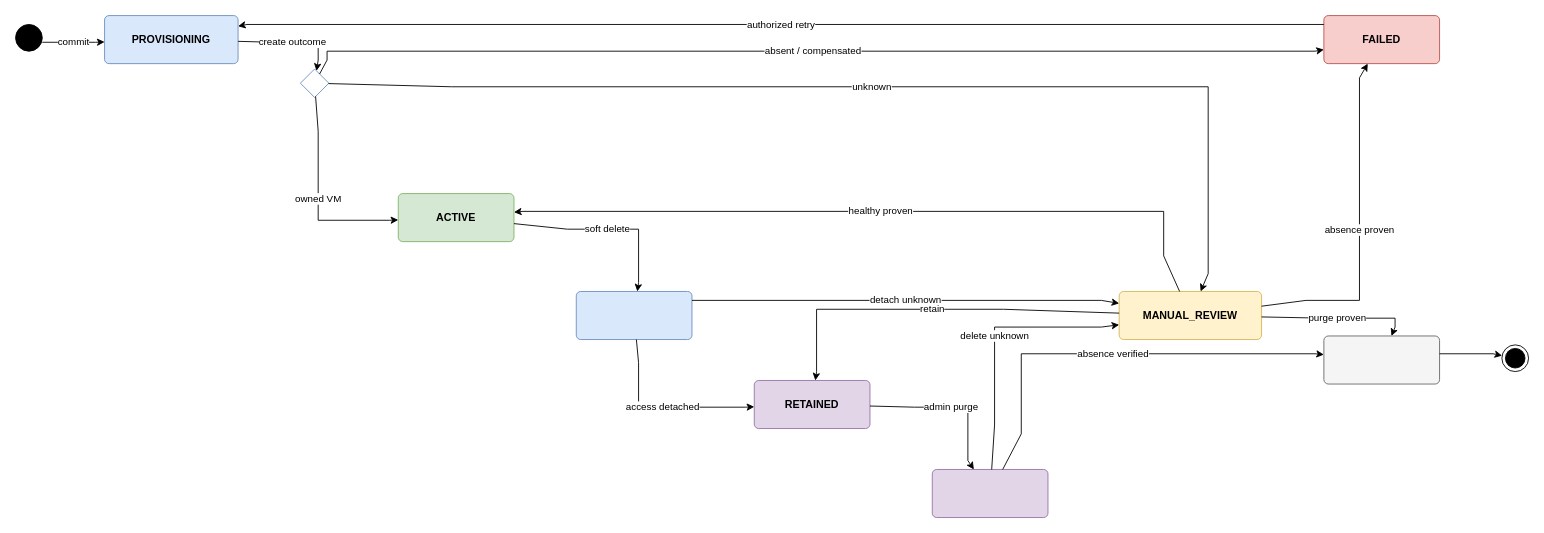
The diagram is 1544 pixels wide and 533 high, and some of its shapes have lost their labels. The box of each missing label's shape, as (x1, y1, x2, y2) in pixels:
DELETING: (575, 291, 692, 340)
PURGED: (1323, 335, 1440, 384)
PURGING: (931, 469, 1048, 518)
